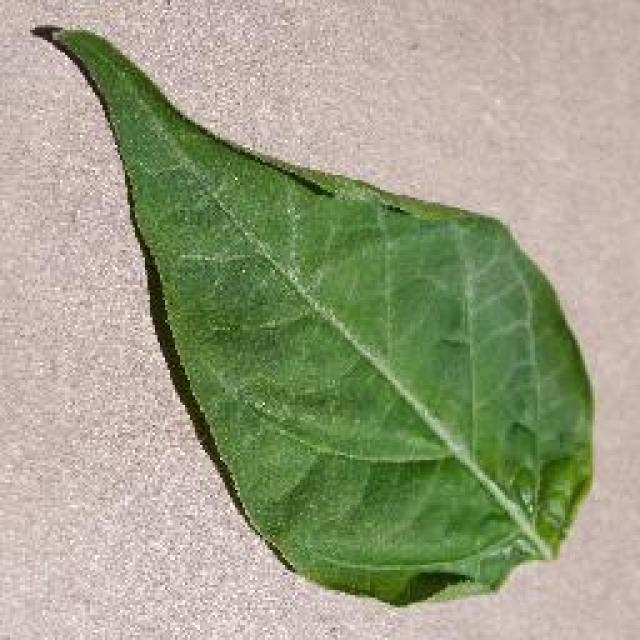Leaf: (27, 18, 621, 604)
